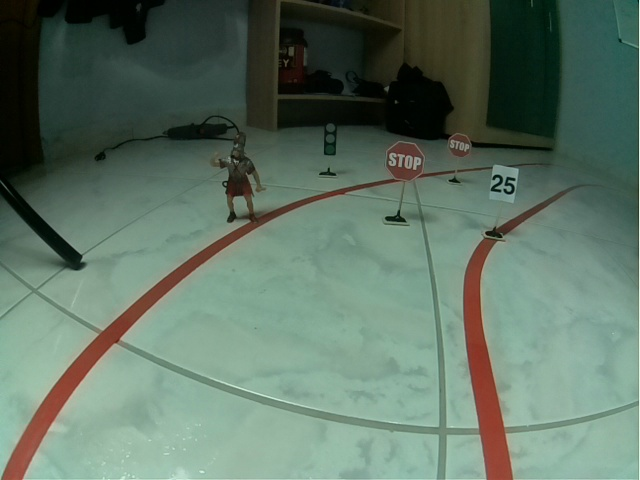Green Traffic Light: (324, 118, 337, 156)
Person: (210, 131, 267, 224)
Speed Limit 25: (489, 163, 520, 205)
Stop: (385, 141, 425, 183), (447, 132, 472, 159)
